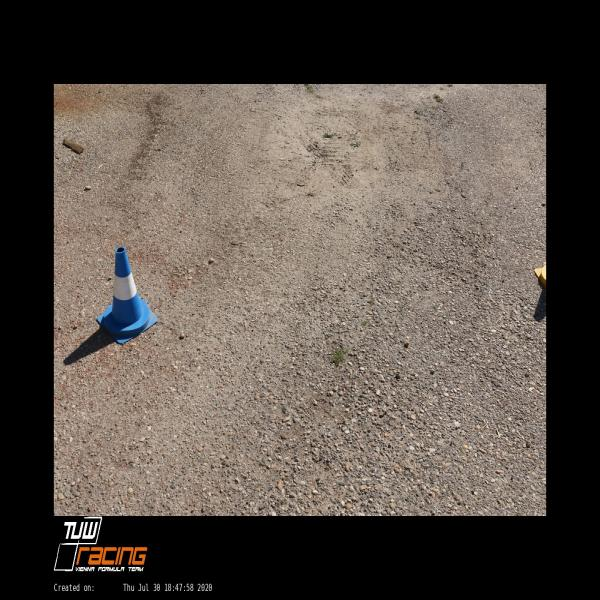blue_cone: (96, 248, 159, 344)
